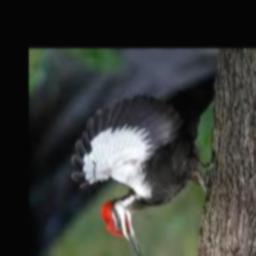Woodpecker: (71, 93, 212, 256)
